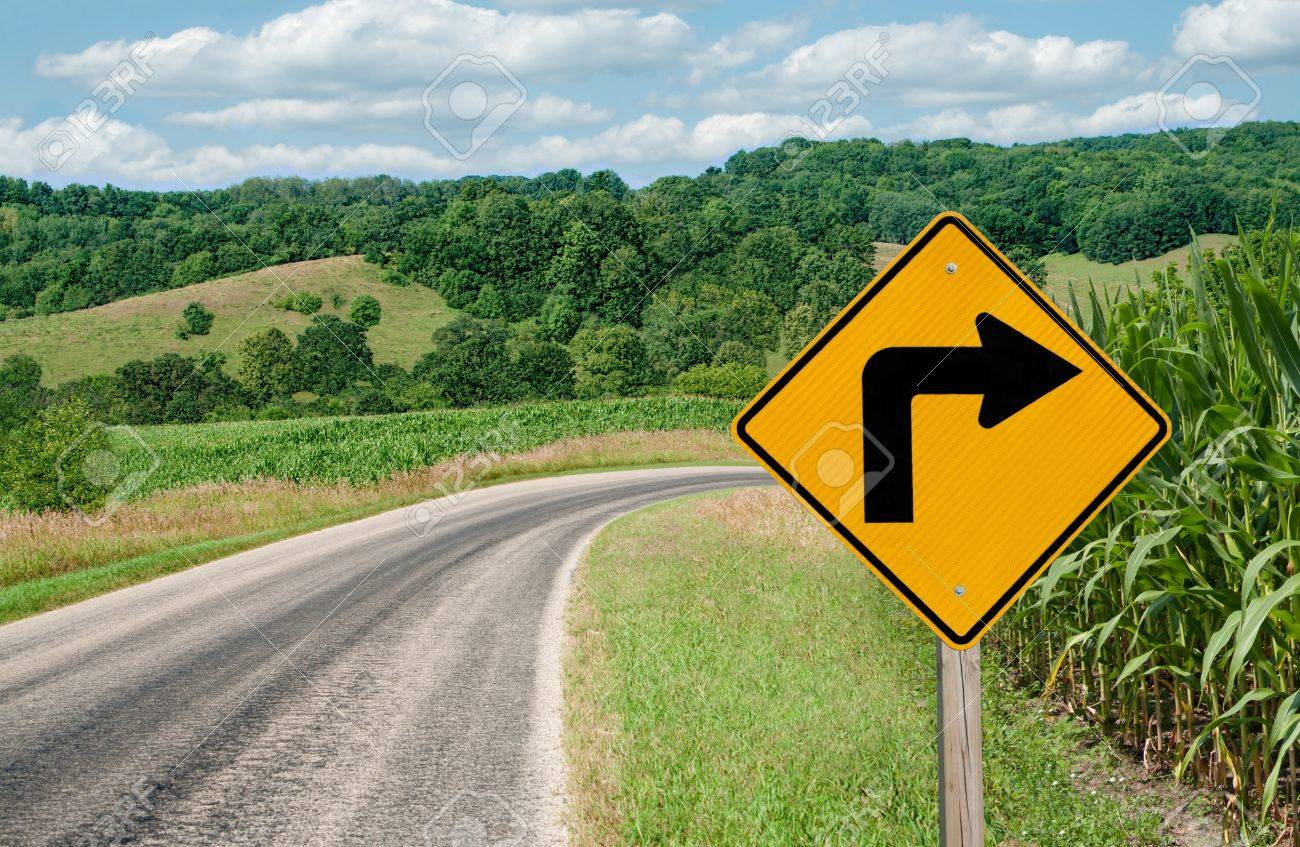right: (727, 208, 1176, 650)
